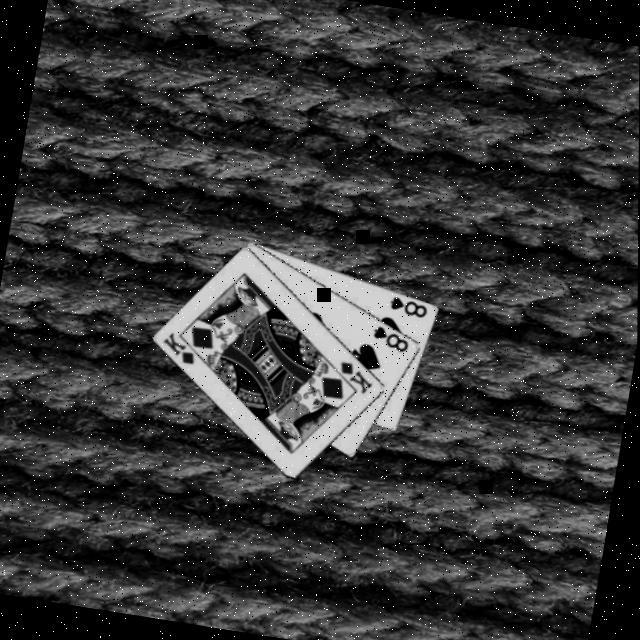8S: (369, 322, 415, 356), (387, 292, 433, 320)
KD: (335, 357, 380, 397), (158, 328, 203, 368)
